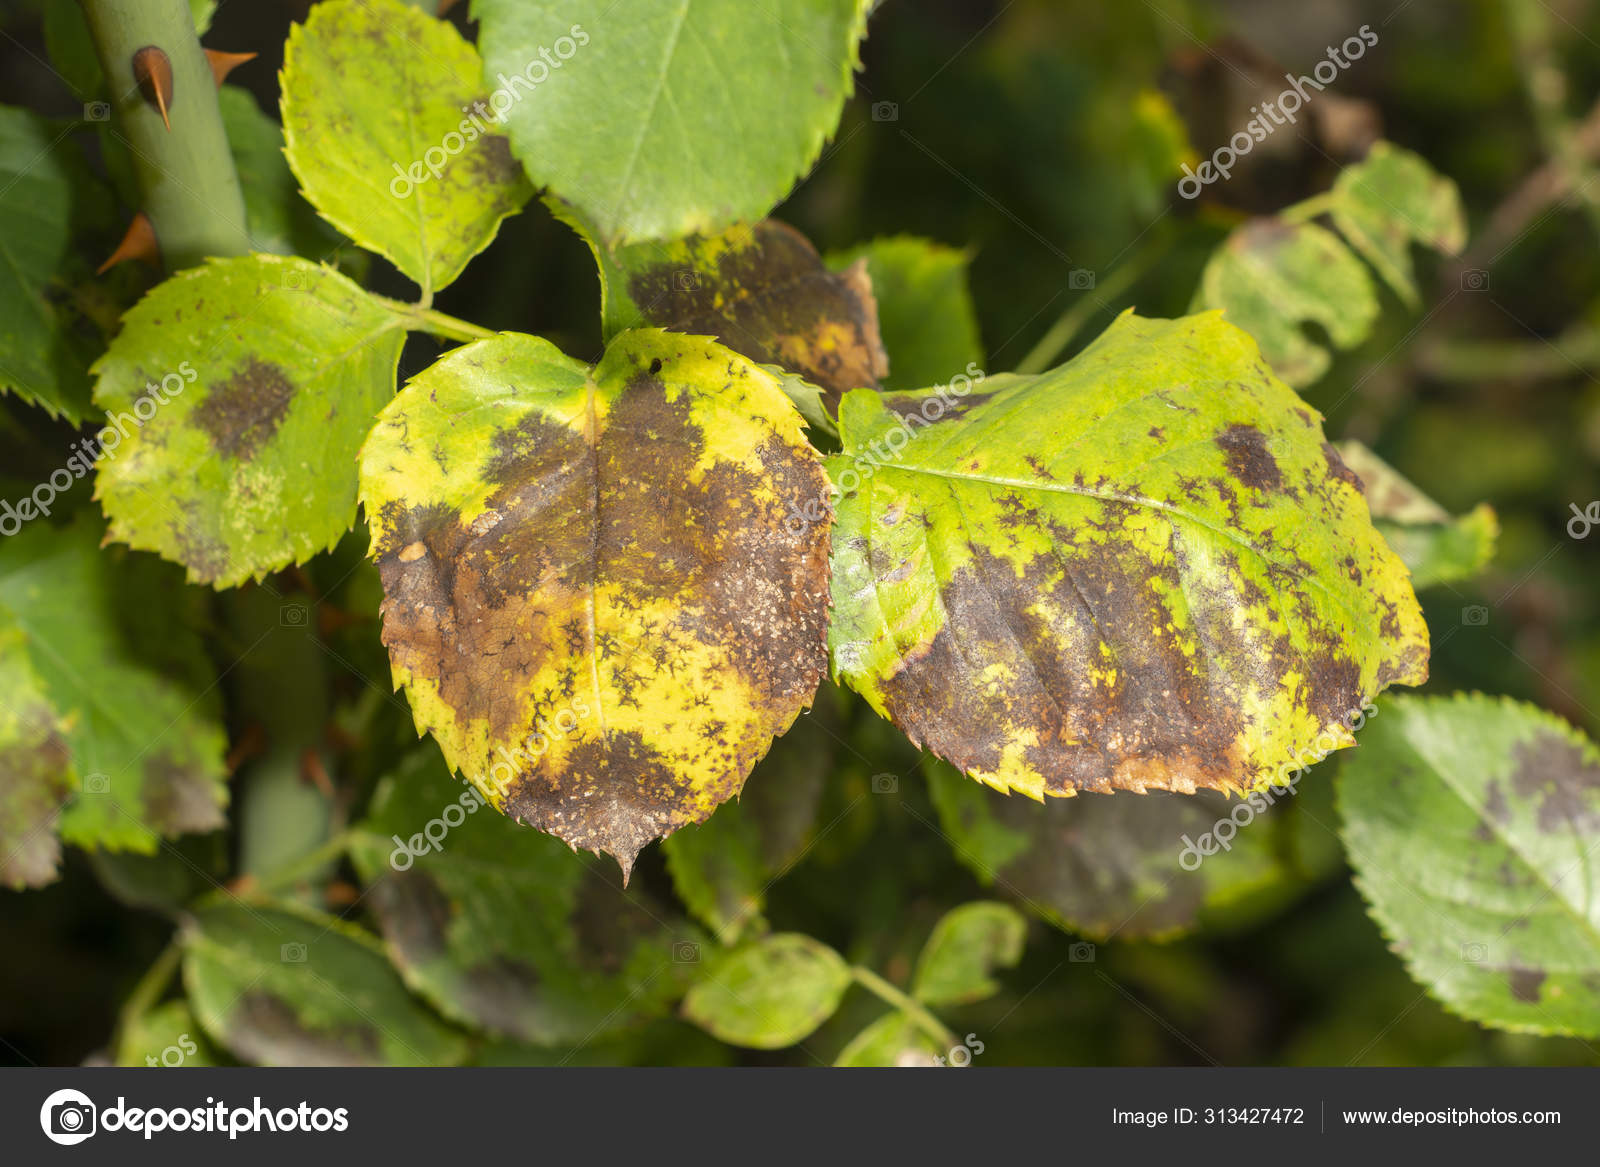unhealthy: (342, 308, 843, 854), (884, 357, 1434, 800)
